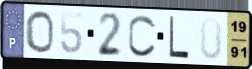0: (199, 16, 224, 62)
2: (96, 11, 124, 58)
5: (59, 10, 84, 55)
C: (127, 13, 158, 59)
L: (167, 14, 191, 61)
O: (23, 9, 55, 55)
